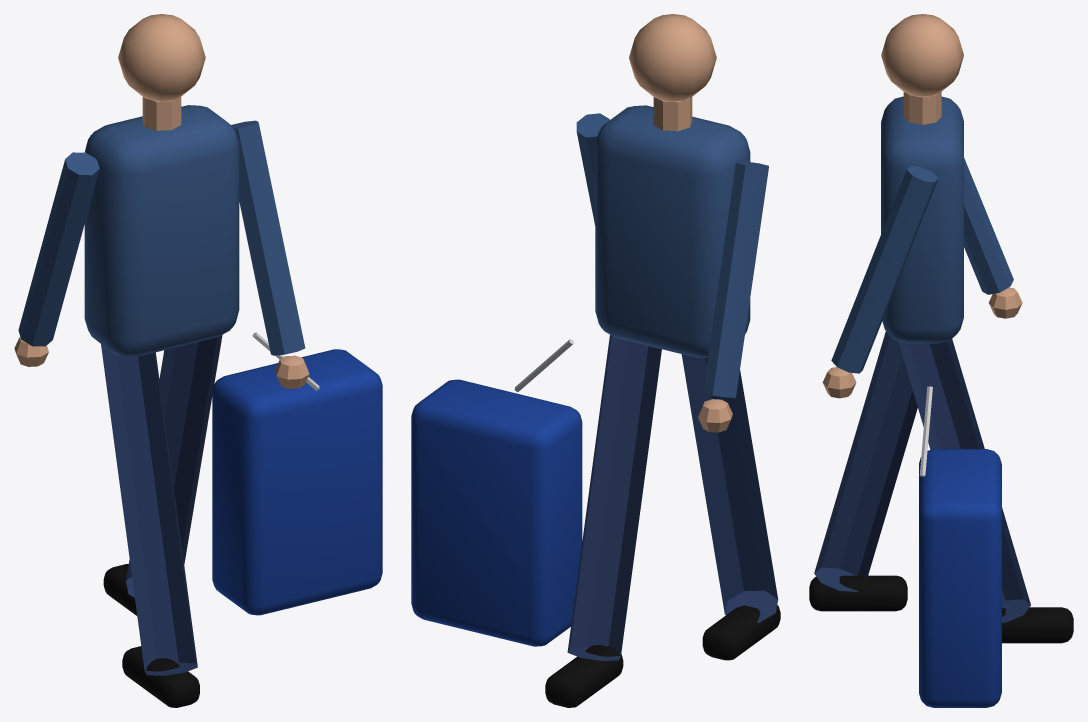
Rendered from people.public.passenger.glb.
3 views of the same model, side by side, from view 1: azimuth 30°, elevation 25°; view 2: azimuth 150°, elevation 25°; view 3: azimuth 270°, elevation 25° (orthographic). The views are drawn at different scales.
Visible parts, largest first — view 1: main__fabric_blue, main__plastic_blue, main__denim, main__skin, main__plastic_black; view 2: main__plastic_blue, main__fabric_blue, main__denim, main__skin, main__plastic_black; view 3: main__fabric_blue, main__plastic_blue, main__denim, main__skin, main__plastic_black, main__aluminium.
Part boxes in pixels (x1,y1,x2,y2): main__fabric_blue: [18, 105, 305, 357]; main__plastic_blue: [212, 349, 382, 615]; main__denim: [101, 335, 222, 675]; main__skin: [14, 14, 309, 388]; main__plastic_black: [103, 564, 199, 707]; main__plastic_blue: [411, 379, 582, 646]; main__fabric_blue: [576, 105, 768, 397]; main__denim: [567, 335, 778, 660]; main__skin: [629, 14, 732, 432]; main__plastic_black: [545, 605, 780, 707]; main__fabric_blue: [831, 96, 1013, 373]; main__plastic_blue: [919, 449, 1001, 707]; main__denim: [814, 331, 1030, 622]; main__skin: [822, 14, 1022, 398]; main__plastic_black: [809, 575, 1073, 643]; main__aluminium: [919, 386, 932, 476].
Bounding box in the file's own units: 0.945 × 1.77 × 0.7.
